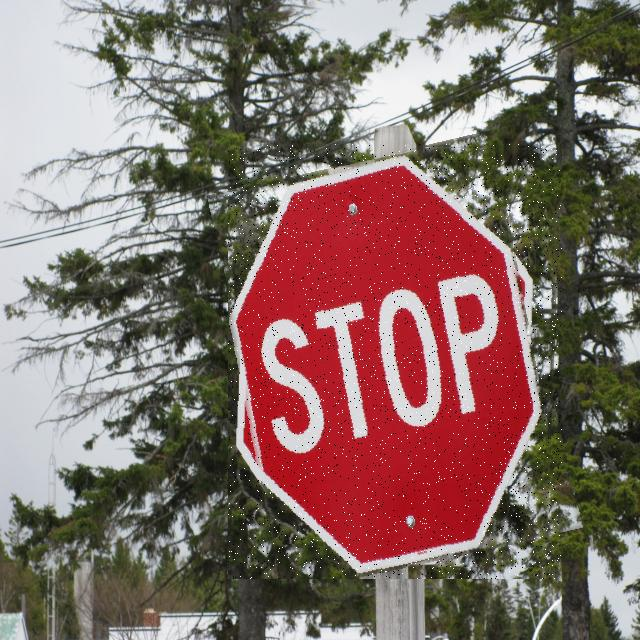stop: (228, 144, 562, 579)
